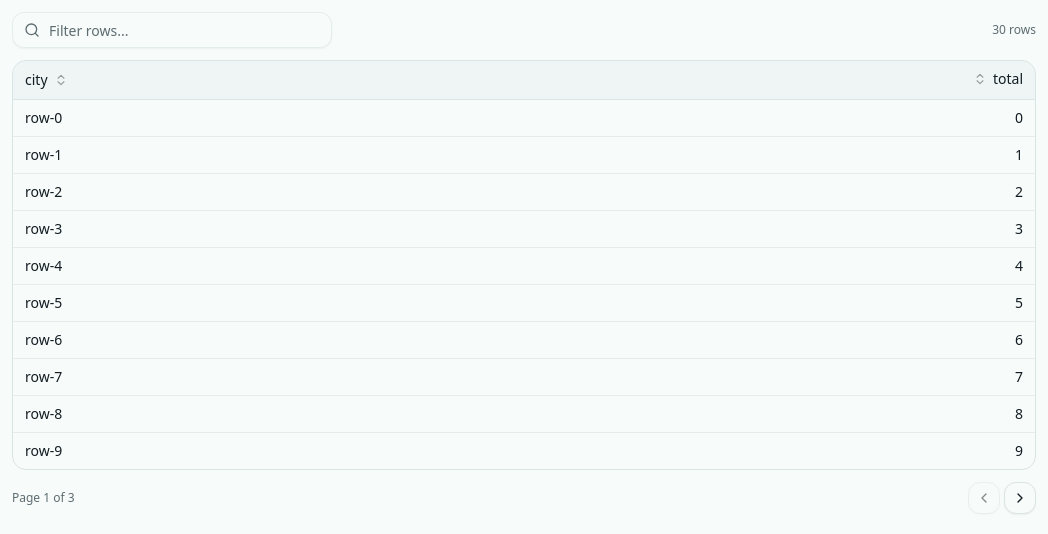
DataTable › paginates and clamps the page when a filter shrinks the result
The image size is (1048, 534).
Expected: the text "Page 1 of 3" is shown, [12,490,75,506]
Click the button named "next page": x=1020, y=498 [1004,482,1036,514]
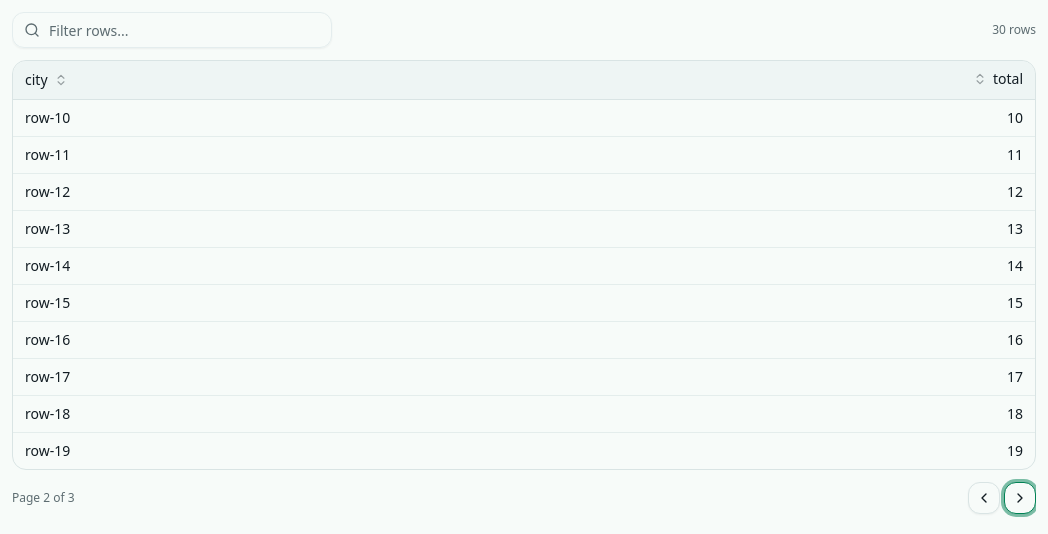
Now the text "Page 2 of 3" is shown, box [12,490,75,506]
// Filtering down to a single row must not leave the view on page 2.
In the field labelled "Filter rows...": x=172, y=30 [12,12,332,48], type "row-7"
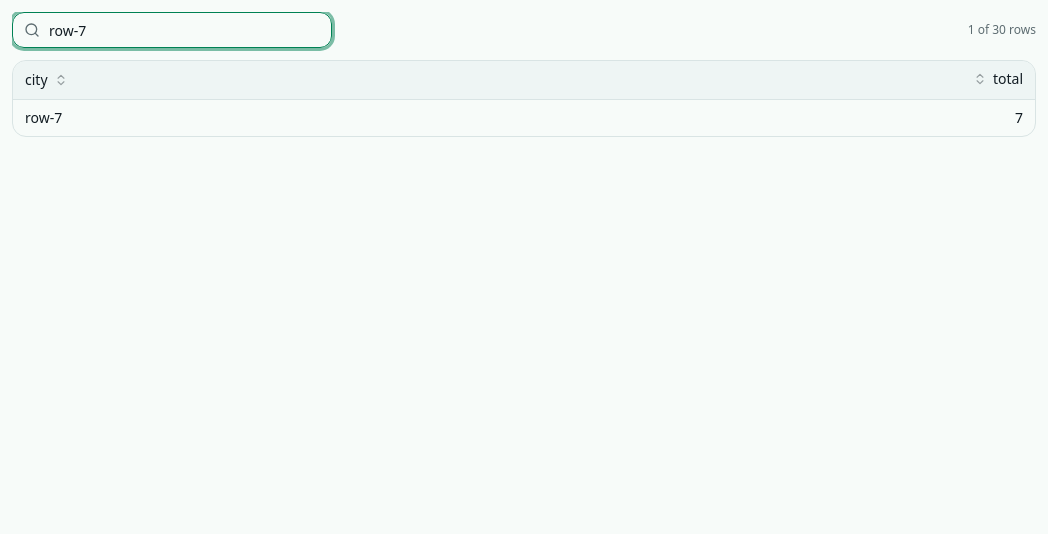
Now the text "row-7" is shown, box [13,100,497,136]
